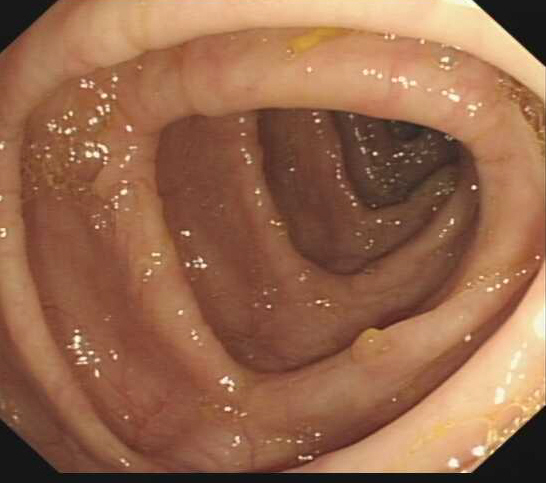others: (348, 323, 388, 365)
